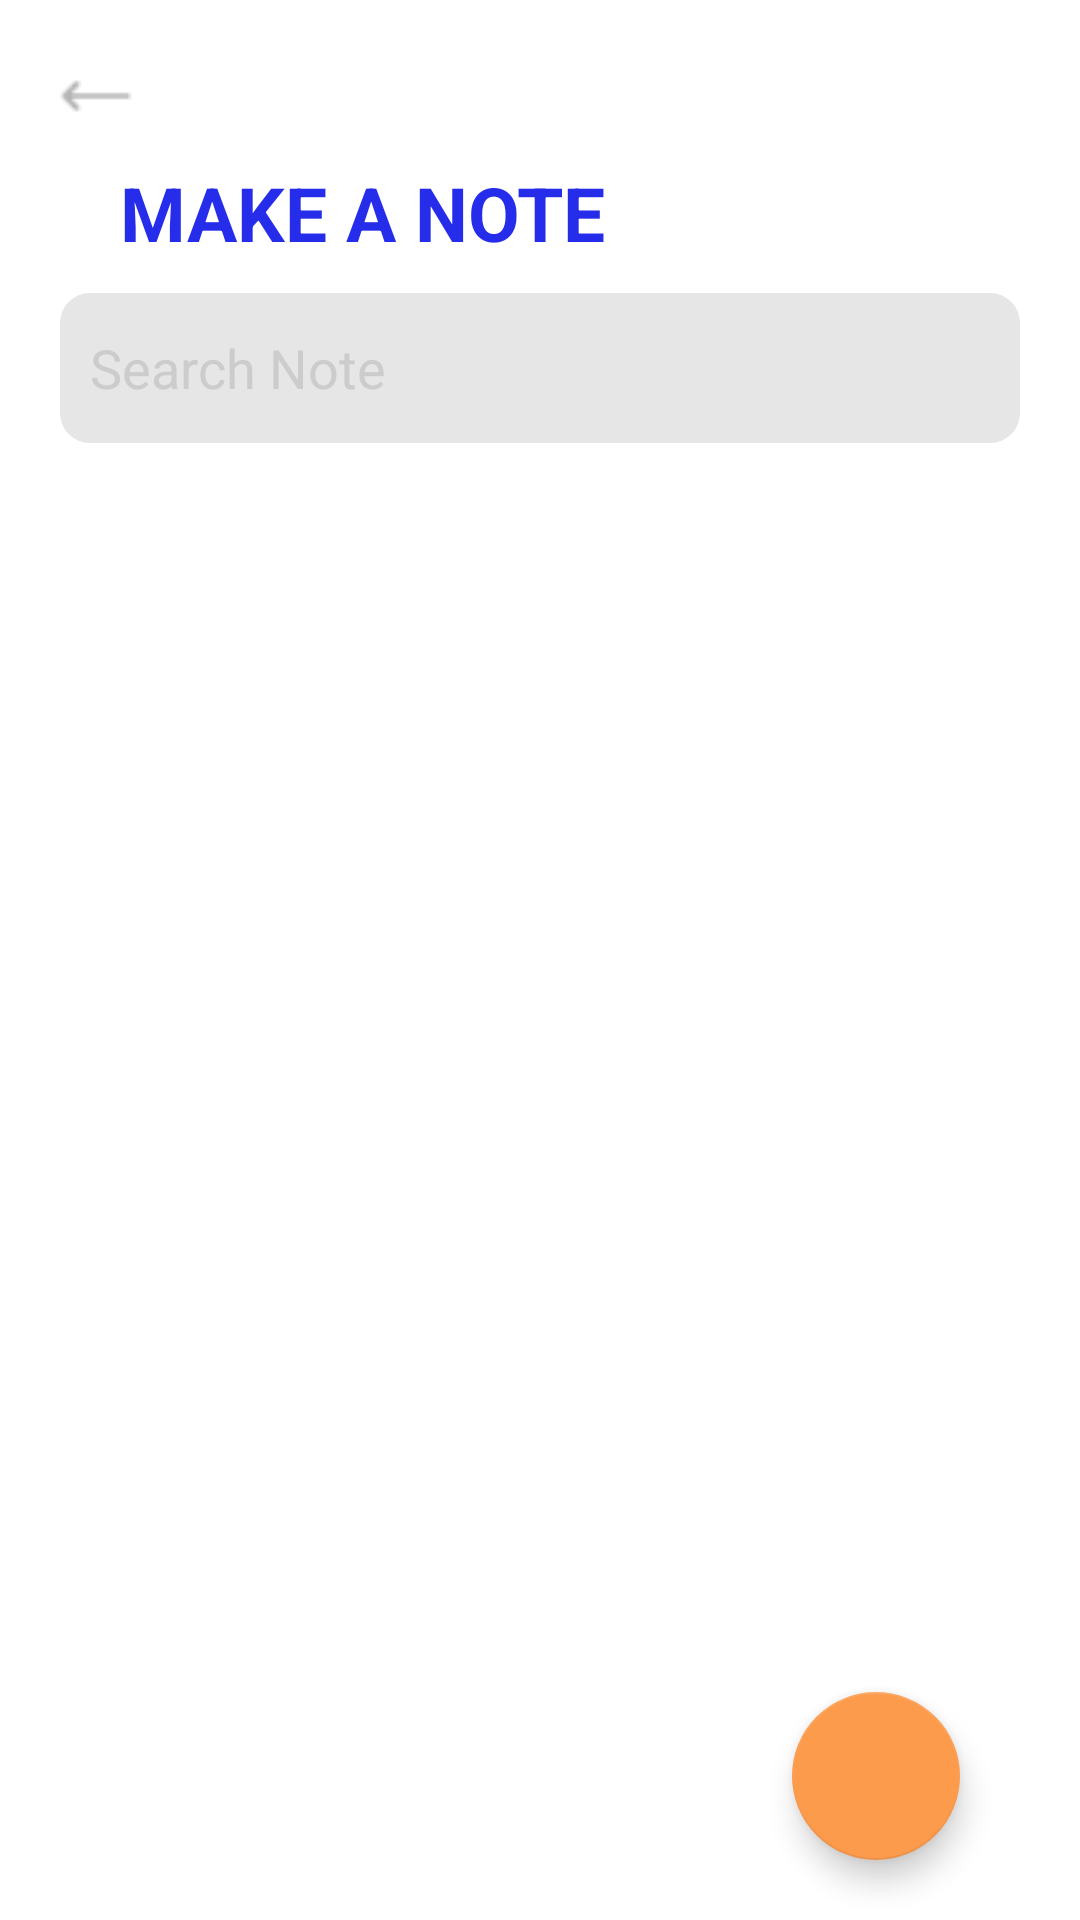

Screen size 1080x1920. Icon name, then its center in pixels as (x=x, y=y):
back: (x=96, y=96)
